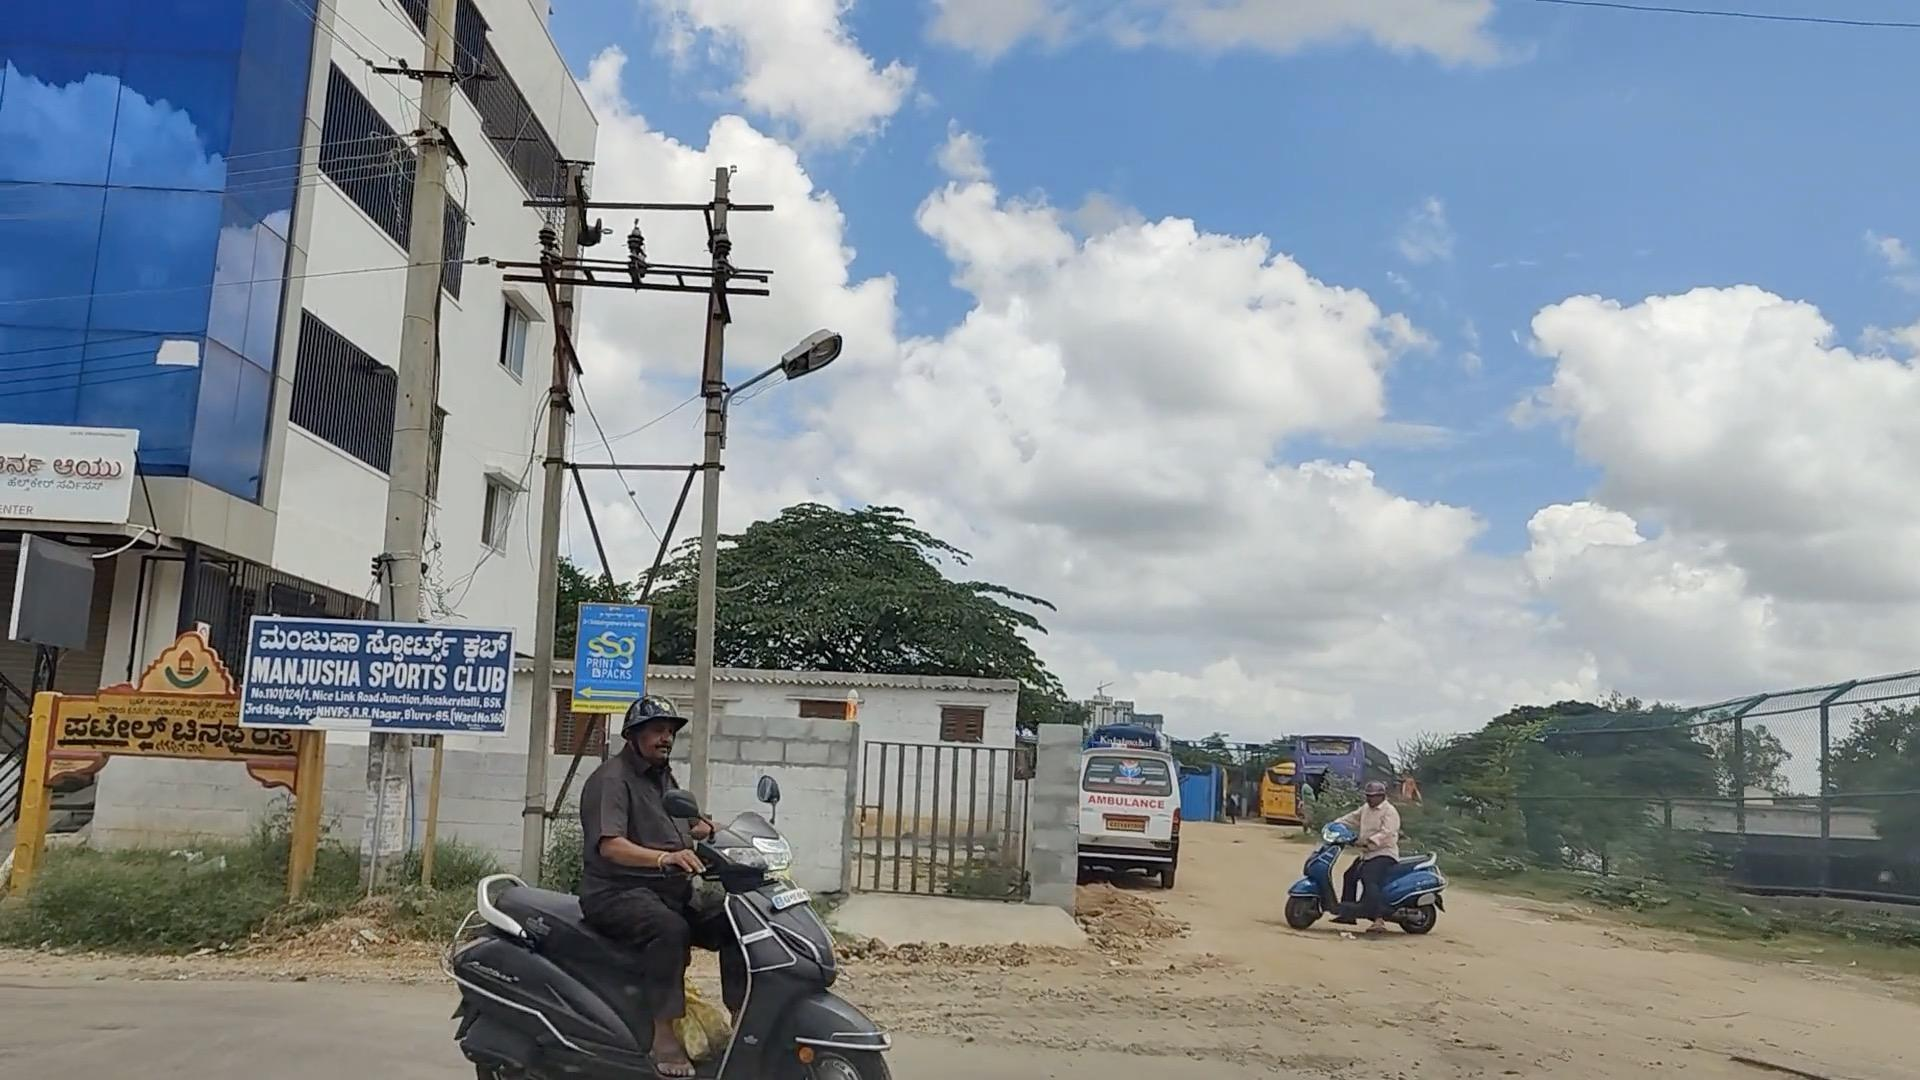LMV: (477, 723, 832, 1080), (1290, 781, 1428, 920), (1077, 740, 1183, 877)
